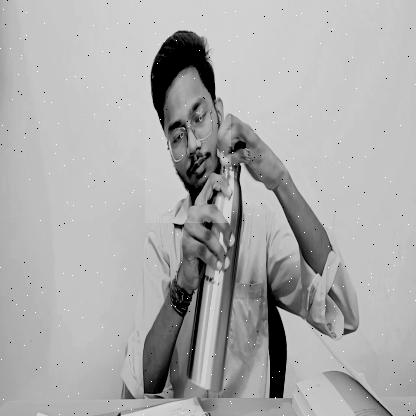Distracted: (145, 33, 231, 223)
